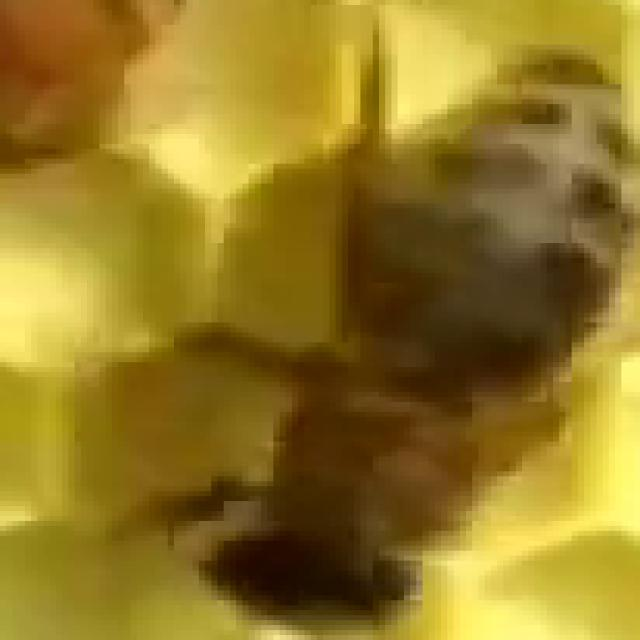honeybee: (172, 35, 637, 636)
